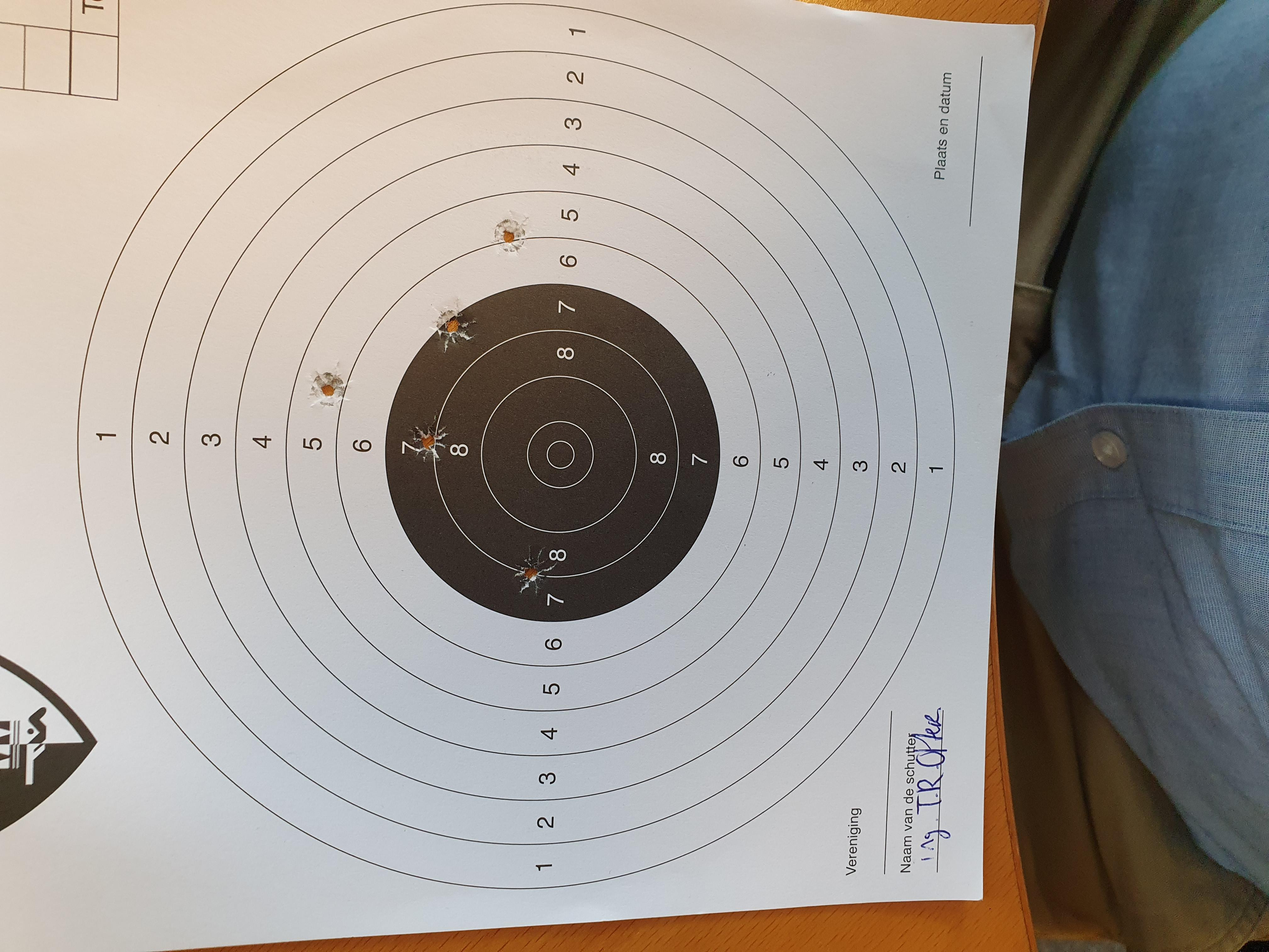hole: (800, 321, 868, 357), (721, 229, 784, 265), (474, 385, 542, 418), (647, 308, 711, 339), (926, 368, 987, 398)
